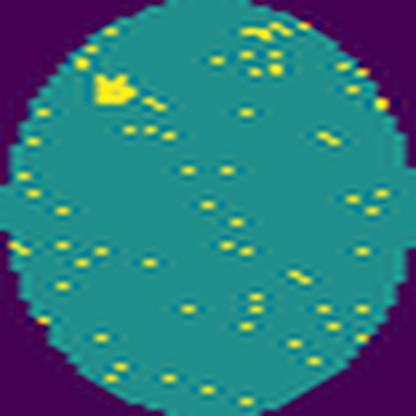Edge-Loc: (95, 70, 138, 110)
